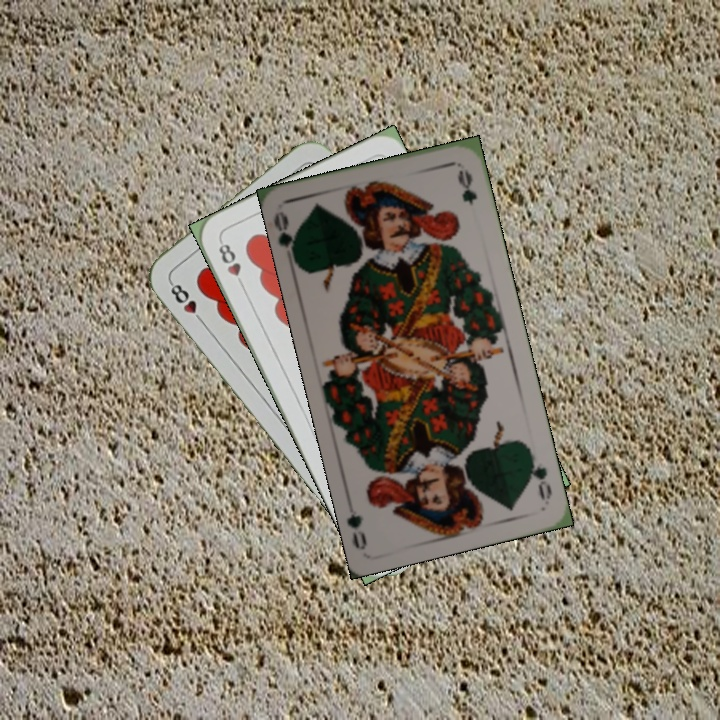GO: (270, 209, 302, 267), (525, 447, 555, 503)
H8: (165, 277, 208, 327), (214, 237, 248, 292)
